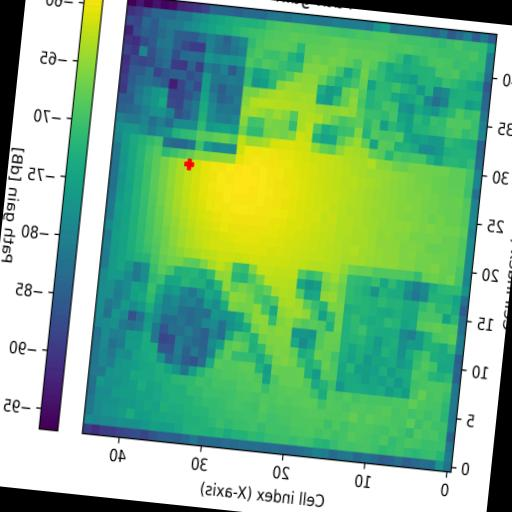Concrete: (162, 30, 248, 164)
Glass: (352, 48, 453, 166)
Metal: (148, 255, 234, 380)
Wood: (334, 264, 422, 400)
